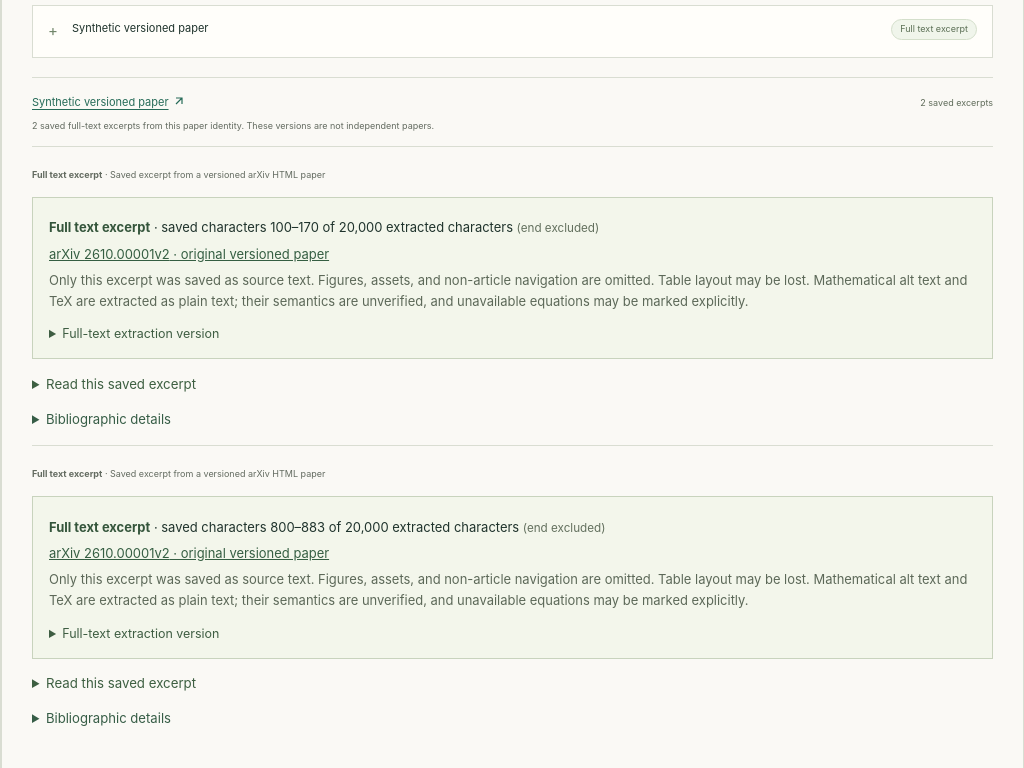
full-text evidence presentation › groups saved windows as one paper while retaining each exact excerpt for inspection
The width and height of the screenshot is (1024, 768).
(page scrolled)
expect the text "not independent papers" is shown: met, box [140, 120, 434, 131]
expect the text "2 saved excerpts" is shown: met, box [920, 96, 993, 111]
Click the heading "Read this saved excerpt" below "100" at (121, 384), box [46, 376, 196, 392]
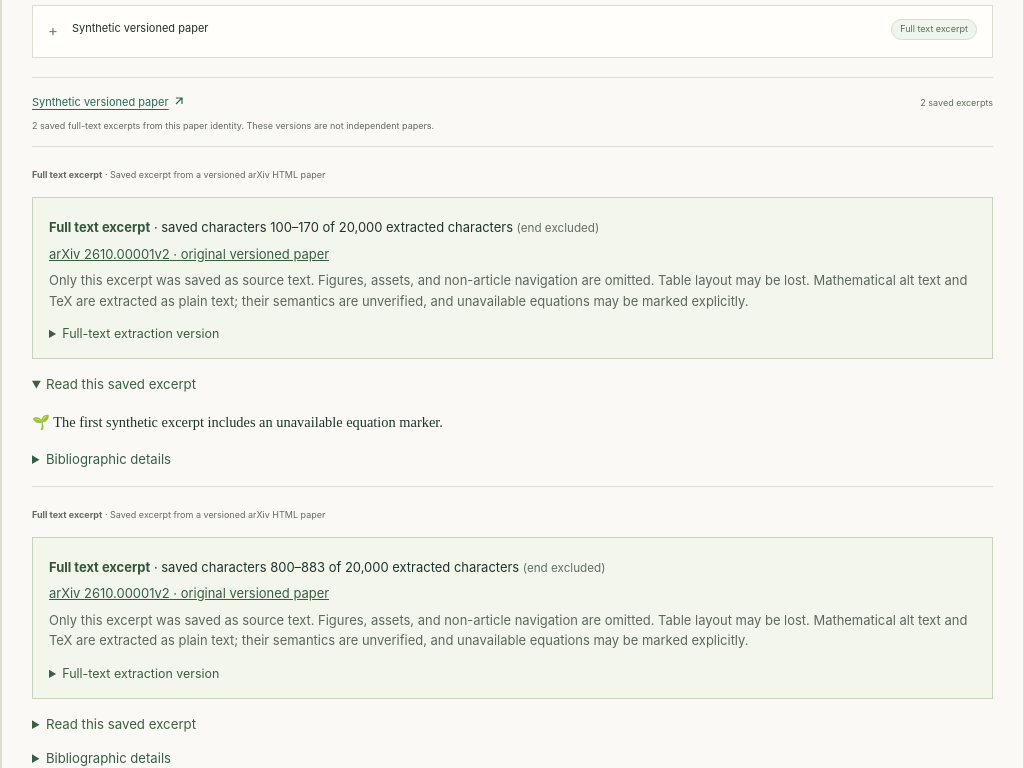
expect the number of links "arXiv 2610.00001v2 · original versioned paper" is 2: met, box [49, 246, 329, 262]; [49, 585, 329, 601]
expect the text "🌱 The first synthetic excerpt includes an unavailable equation marker." is shown: met, box [32, 414, 443, 430]
